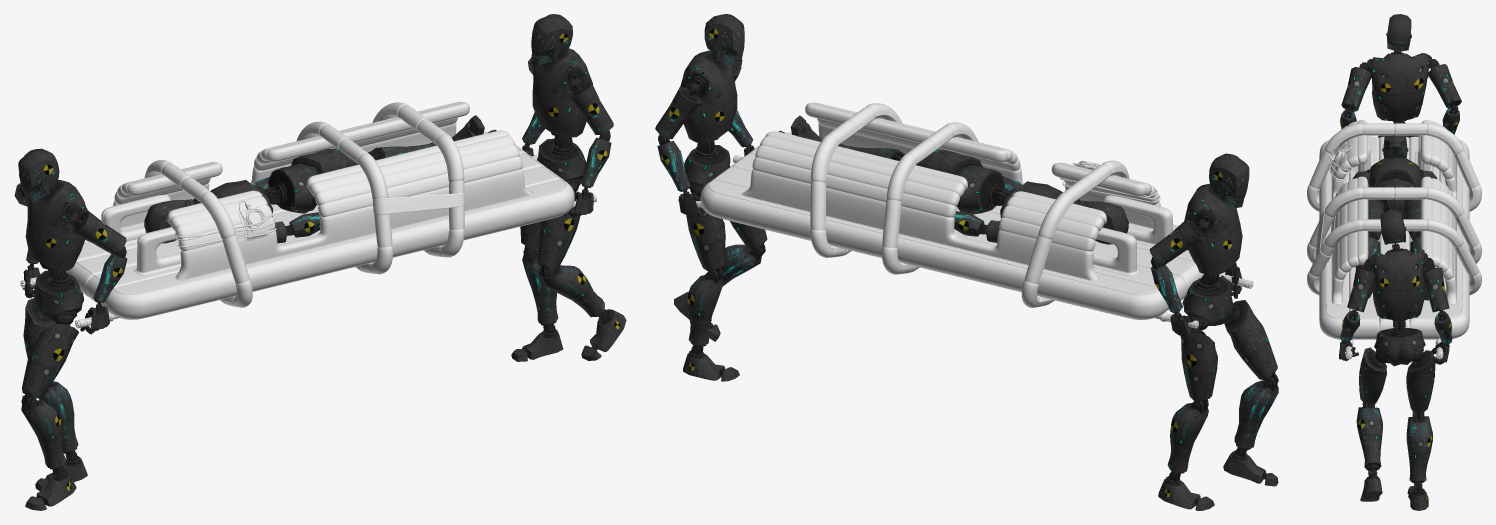
The model's file is p_50_emergencyStretcher_sf.fbx.
The picture shows the model from 3 angles, left to right: view 1: azimuth 30°, elevation 25°; view 2: azimuth 150°, elevation 25°; view 3: azimuth 270°, elevation 25°; orthographic projection. The views are drawn at different scales.
Visible parts, largest first — view 1: stretcher.010_low, man_3_low, man_2_low, stretcher_low, man_low, stretcher.015_low, stretcher.013_low, stretcher.014_low, stretcher.008_low, stretcher.016_low; view 2: stretcher.010_low, man_3_low, man_2_low, stretcher_low, man_low, stretcher.015_low, stretcher.014_low, stretcher.013_low, stretcher.008_low; view 3: man_2_low, stretcher.010_low, man_3_low, stretcher_low, man_low, stretcher.013_low, stretcher.014_low, stretcher.015_low, stretcher.008_low, stretcher.016_low.
Part boxes in pixels (box(x1,y1,x2,y2)): stretcher.010_low: box(113, 101, 532, 279); man_3_low: box(14, 148, 127, 510); man_2_low: box(511, 14, 626, 361); stretcher_low: box(66, 131, 574, 319); man_low: box(144, 115, 496, 243); stretcher.015_low: box(372, 102, 464, 257); stretcher.013_low: box(144, 160, 252, 307); stretcher.014_low: box(296, 121, 393, 274); stretcher.008_low: box(101, 195, 180, 274); stretcher.016_low: box(373, 193, 465, 214); stretcher.010_low: box(742, 102, 1160, 280); man_3_low: box(1149, 153, 1278, 510); man_2_low: box(655, 14, 767, 381); stretcher_low: box(700, 132, 1203, 319); man_low: box(778, 115, 1128, 244); stretcher.015_low: box(810, 103, 902, 257); stretcher.014_low: box(881, 122, 977, 274); stretcher.013_low: box(1021, 160, 1129, 307); stretcher.008_low: box(1093, 195, 1172, 275); man_2_low: box(1339, 209, 1452, 510); stretcher.010_low: box(1332, 120, 1456, 303); man_3_low: box(1339, 14, 1461, 137); stretcher_low: box(1319, 136, 1469, 339); man_low: box(1352, 135, 1437, 300); stretcher.013_low: box(1307, 123, 1481, 211); stretcher.014_low: box(1307, 187, 1481, 263); stretcher.015_low: box(1307, 219, 1481, 295); stretcher.008_low: box(1356, 135, 1432, 172); stretcher.016_low: box(1315, 209, 1335, 262).
Size of what is drawn, in the model's own units: 164 by 93.68 by 49.5.
